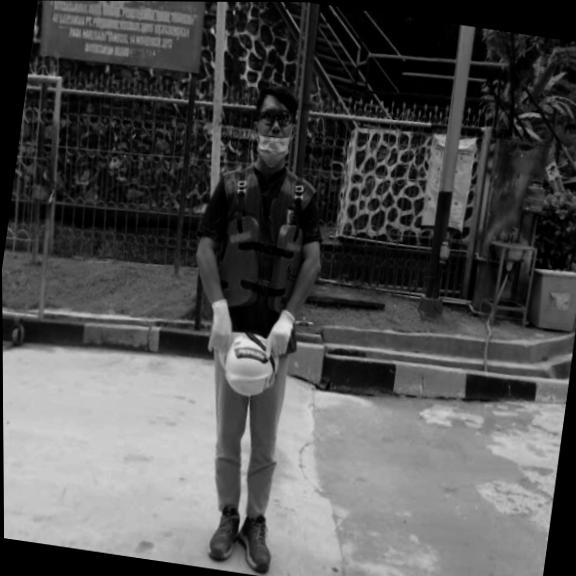safety_vest: (217, 214, 304, 308)
